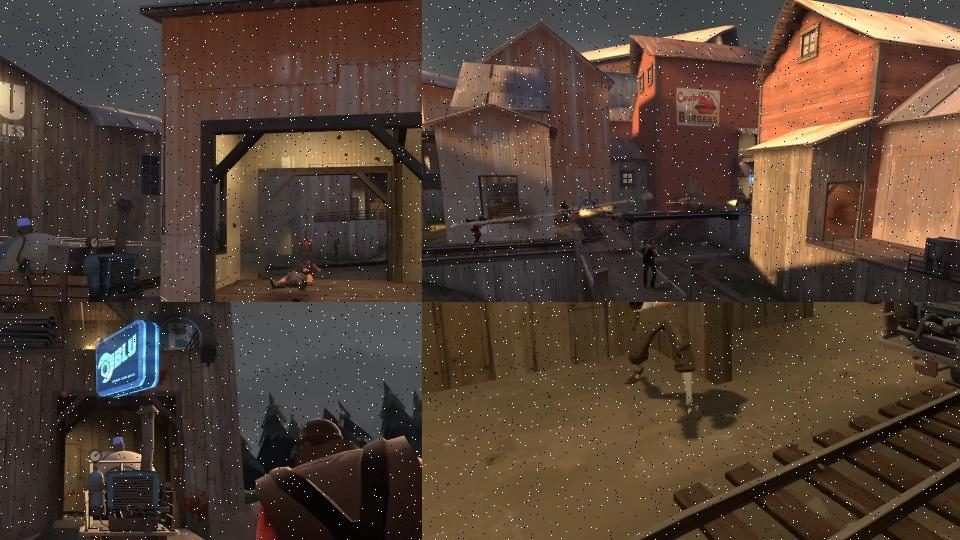Enemy: (251, 416, 422, 540), (623, 302, 700, 416), (639, 236, 661, 293), (268, 268, 315, 292), (465, 214, 496, 250), (298, 230, 314, 273), (559, 200, 581, 223), (331, 237, 342, 262)
